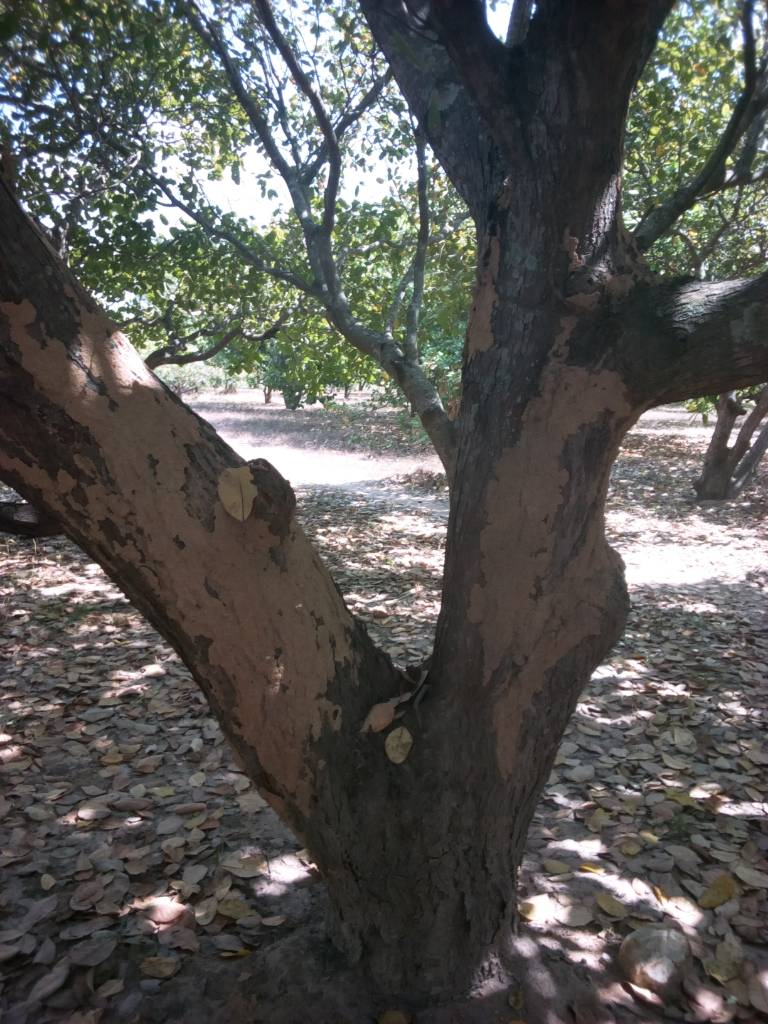Termites: (465, 357, 611, 792), (171, 544, 358, 722), (74, 394, 204, 541)
